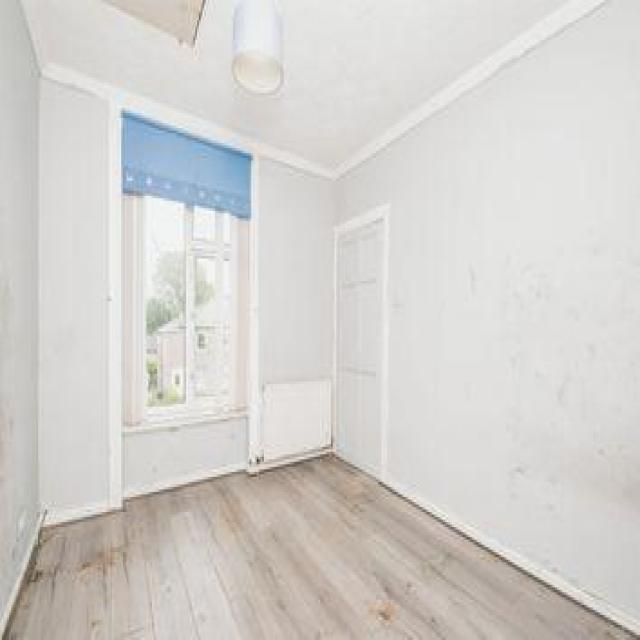Wall: (260, 2, 640, 627), (7, 456, 630, 638), (22, 0, 565, 169), (0, 0, 123, 634), (124, 413, 247, 497)
